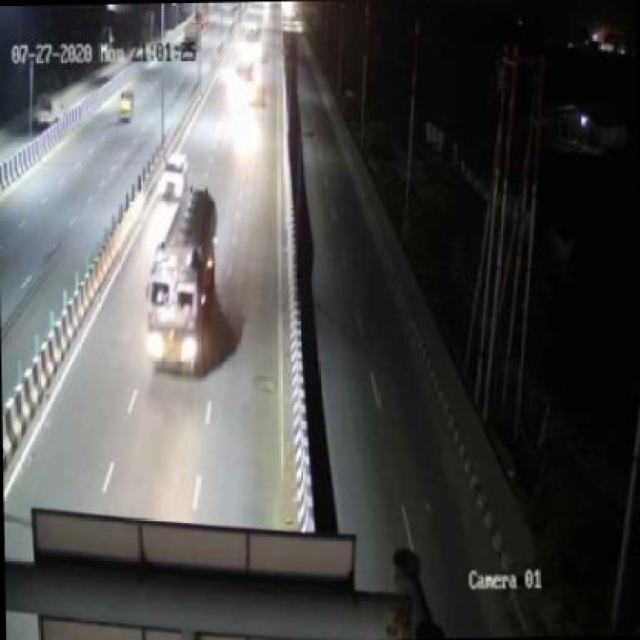car: (156, 148, 192, 200)
